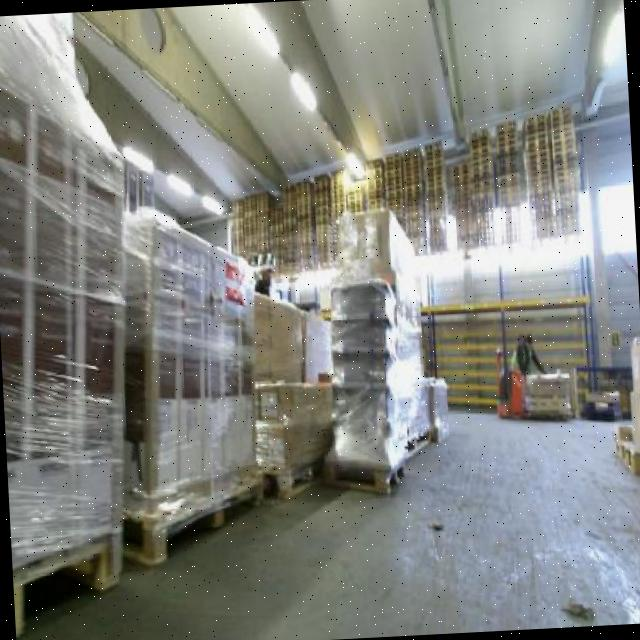pallet: (121, 464, 286, 569)
